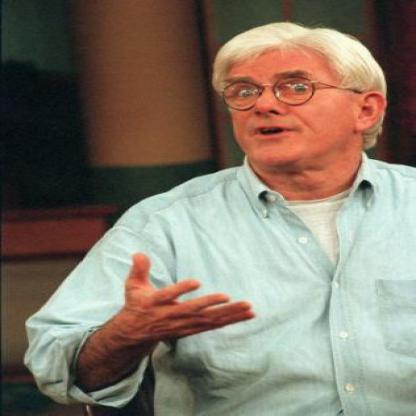face: (218, 30, 363, 173)
